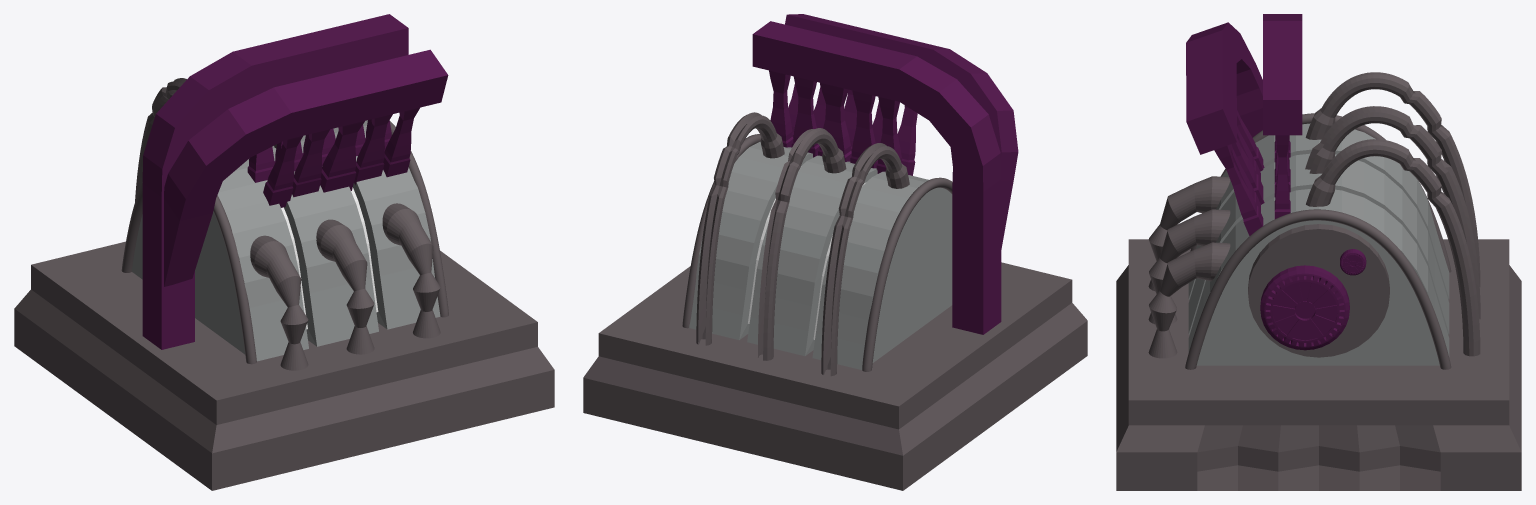
The model's file is FurnaceLevel9.fbx.
3 renders of one model, left to right at view 1: azimuth 30°, elevation 25°; view 2: azimuth 150°, elevation 25°; view 3: azimuth 270°, elevation 25°, orthographic. The views are drawn at different scales.
Visible parts, largest first — view 1: Cube, Cube.002, Cylinder, Cube.001, Cylinder.003, Cylinder.005, Cylinder.004, NurbsPath.001, NurbsPath, NurbsPath.003; view 2: Cube, Cylinder, Cube.001, Cube.002, NurbsPath.004, NurbsPath.003, NurbsPath.002, NurbsPath.001, NurbsPath; view 3: Cube, Cylinder, Cube.002, Cylinder.001, Cube.001, Cylinder.006, NurbsPath.004, NurbsPath, NurbsPath.002, NurbsPath.003, Cylinder.005, Cylinder.003 (+3 smaller).
Part boxes in pixels (box(x1,y1,x2,y2)): Cube: box(14, 241, 554, 490); Cube.002: box(164, 49, 448, 286); Cylinder: box(132, 120, 440, 361); Cube.001: box(142, 14, 408, 349); Cylinder.003: box(316, 219, 374, 354); Cylinder.005: box(382, 203, 440, 338); Cylinder.004: box(250, 235, 308, 370); NurbsPath.001: box(121, 183, 256, 364); NurbsPath: box(390, 121, 448, 317); NurbsPath.003: box(135, 78, 186, 201); Cube: box(583, 262, 1087, 490); Cylinder: box(689, 141, 952, 369); Cube.001: box(752, 21, 1001, 334); Cube.002: box(785, 14, 1018, 249); NurbsPath.004: box(696, 112, 784, 345); NurbsPath.003: box(821, 143, 909, 376); NurbsPath.002: box(758, 128, 846, 360); NurbsPath.001: box(862, 177, 952, 371); NurbsPath: box(682, 134, 761, 328); Cube: box(1116, 239, 1521, 490); Cylinder: box(1188, 123, 1449, 365); Cube.002: box(1186, 22, 1264, 236); Cylinder.001: box(1248, 224, 1389, 357); Cube.001: box(1263, 14, 1302, 218); Cylinder.006: box(1260, 265, 1349, 350); NurbsPath.004: box(1306, 139, 1480, 356); NurbsPath: box(1185, 209, 1451, 369); NurbsPath.002: box(1305, 106, 1480, 319); NurbsPath.003: box(1305, 72, 1480, 286); Cylinder.005: box(1148, 242, 1230, 358); Cylinder.003: box(1148, 209, 1230, 324).
Bounding box in the file's own units: 1.98 × 1.91 × 1.98.
